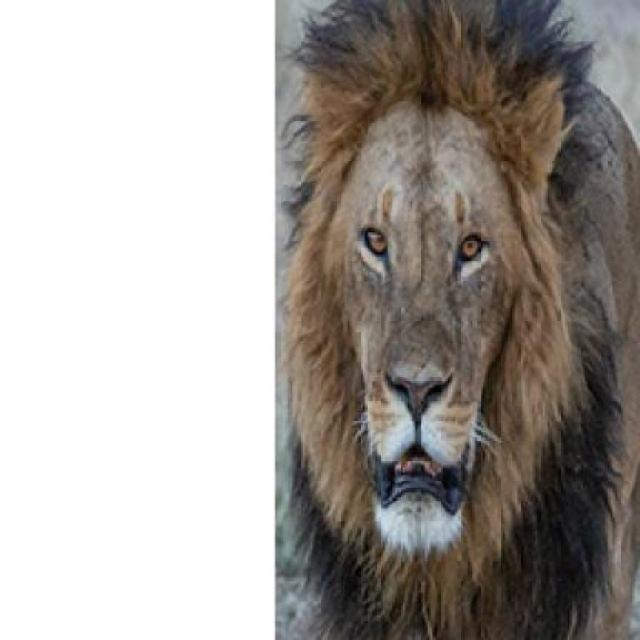Lion: (276, 4, 638, 638)
